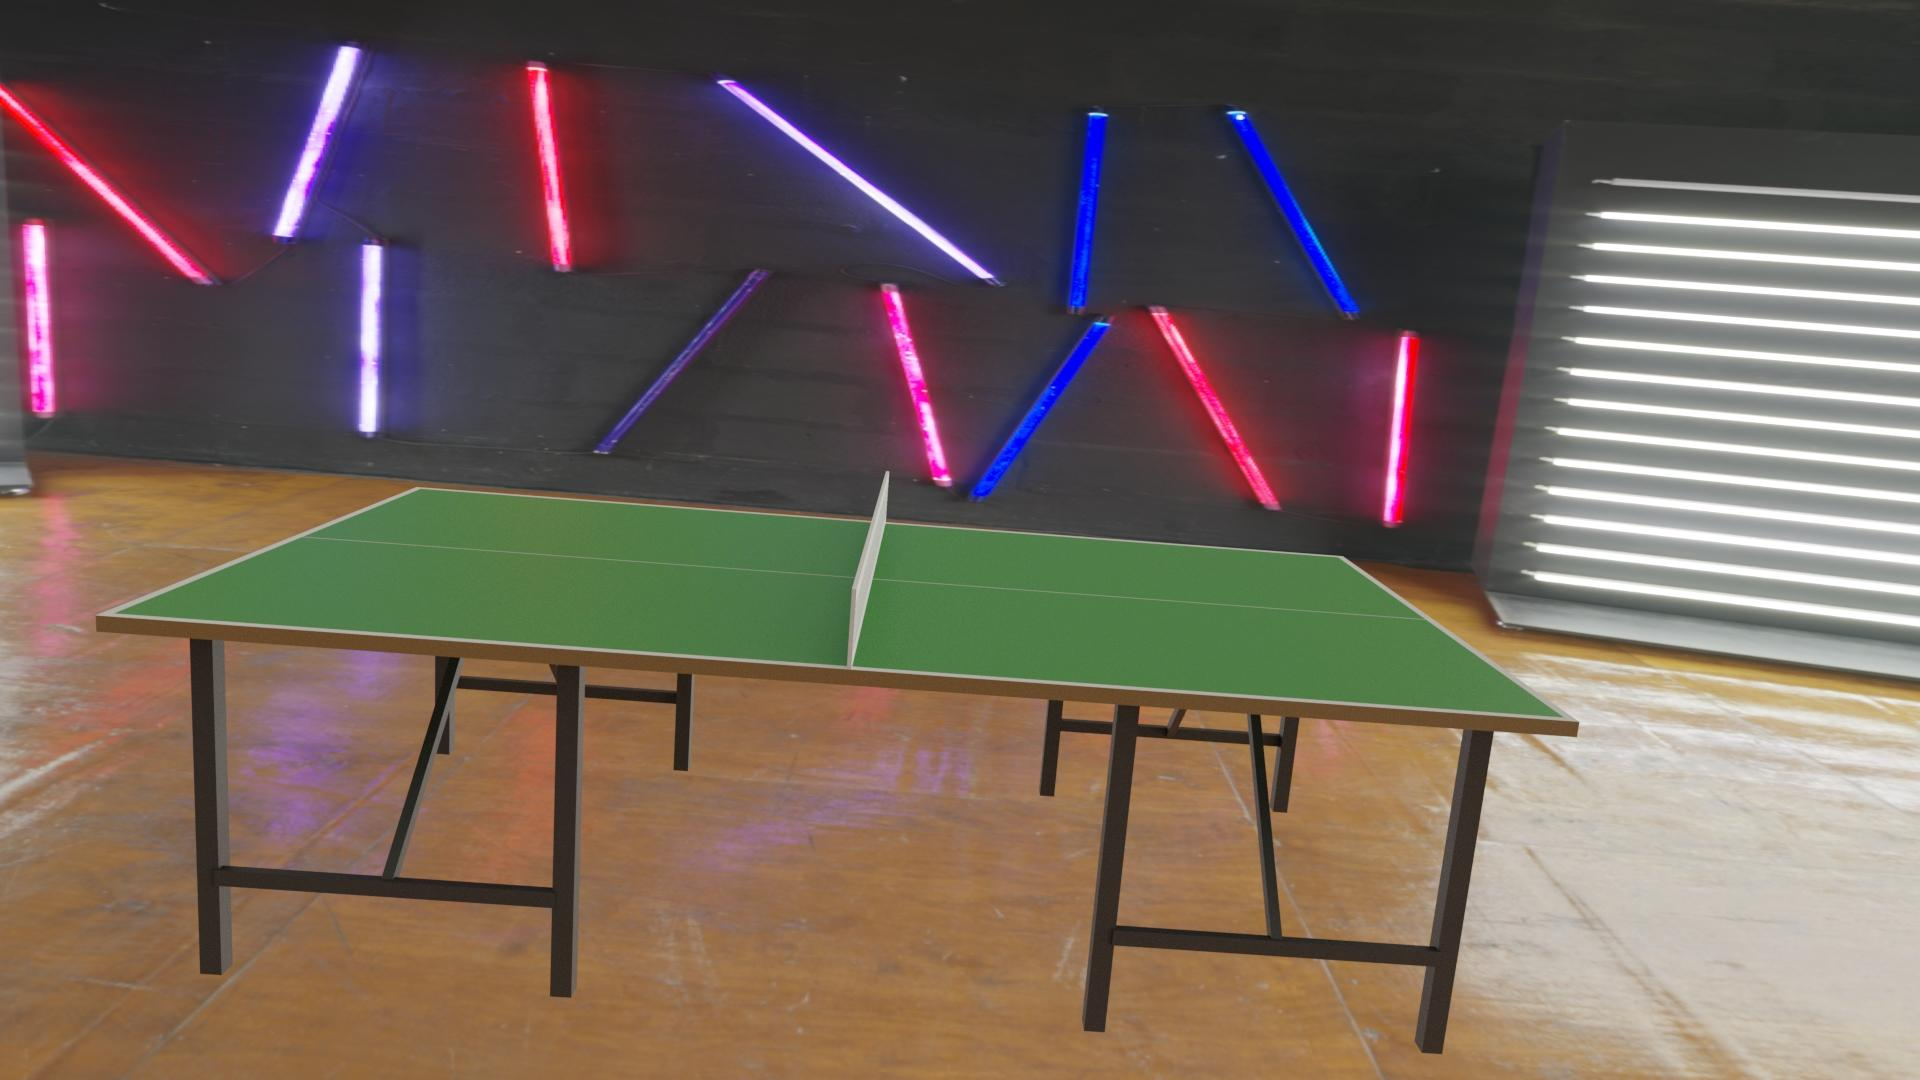table: (113, 489, 1564, 717)
